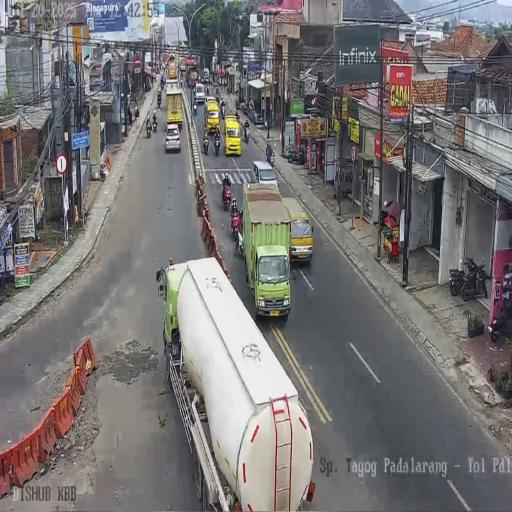car: (224, 116, 241, 156), (165, 123, 181, 153), (194, 82, 205, 104)
motorcycle: (489, 282, 512, 341), (461, 256, 489, 302), (449, 267, 466, 296), (284, 144, 305, 165), (240, 100, 252, 116), (266, 150, 274, 168), (214, 134, 220, 156), (203, 133, 209, 154), (244, 123, 250, 143), (146, 117, 152, 137), (156, 88, 162, 106), (192, 98, 198, 114), (220, 105, 226, 119), (152, 117, 157, 132), (160, 76, 165, 90), (215, 88, 220, 102), (235, 110, 240, 122), (146, 80, 151, 92), (205, 82, 209, 94)
truck: (156, 252, 314, 508), (242, 182, 293, 312), (206, 100, 220, 135), (187, 68, 198, 87), (168, 58, 177, 80), (144, 52, 152, 74), (162, 51, 169, 64), (180, 59, 186, 73), (203, 68, 209, 82)
